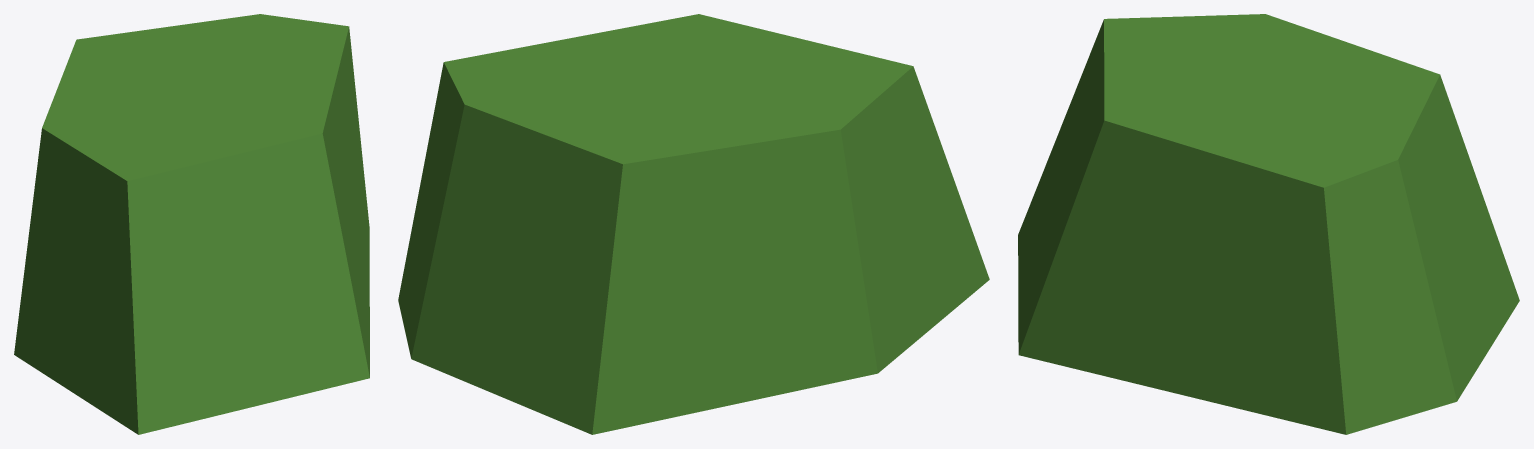
File: grass_layer_crumb_spec_F.fbx
3 views of the same model, side by side, from view 1: azimuth 30°, elevation 25°; view 2: azimuth 150°, elevation 25°; view 3: azimuth 270°, elevation 25° (orthographic). The views are drawn at different scales.
Parts seen in each view (by area): view 1: grass_layer_crumb_spec_F; view 2: grass_layer_crumb_spec_F; view 3: grass_layer_crumb_spec_F.
Part boxes in pixels (x1,y1,x2,y2): grass_layer_crumb_spec_F: (14,14,369,434); grass_layer_crumb_spec_F: (398,14,989,434); grass_layer_crumb_spec_F: (1018,14,1519,434).
Size of the model in its own units: 28.98 by 15.16 by 29.83.
